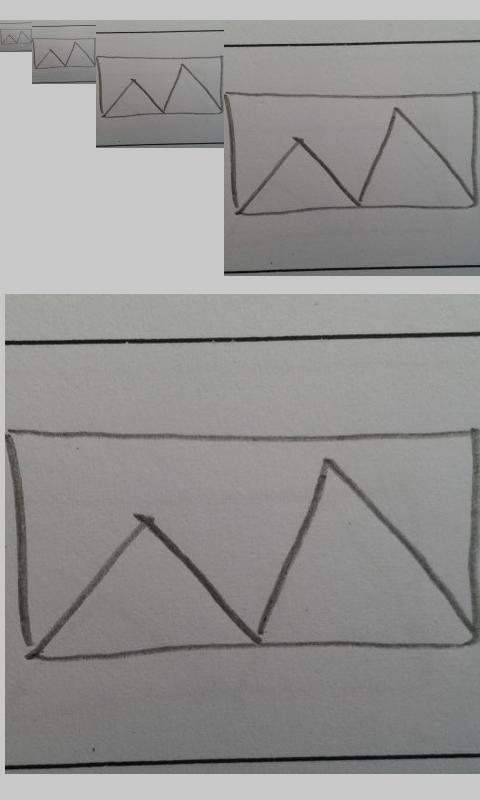image_view: (8, 424, 479, 666), (224, 87, 480, 218), (96, 55, 223, 118), (32, 37, 96, 69), (1, 28, 32, 45)
